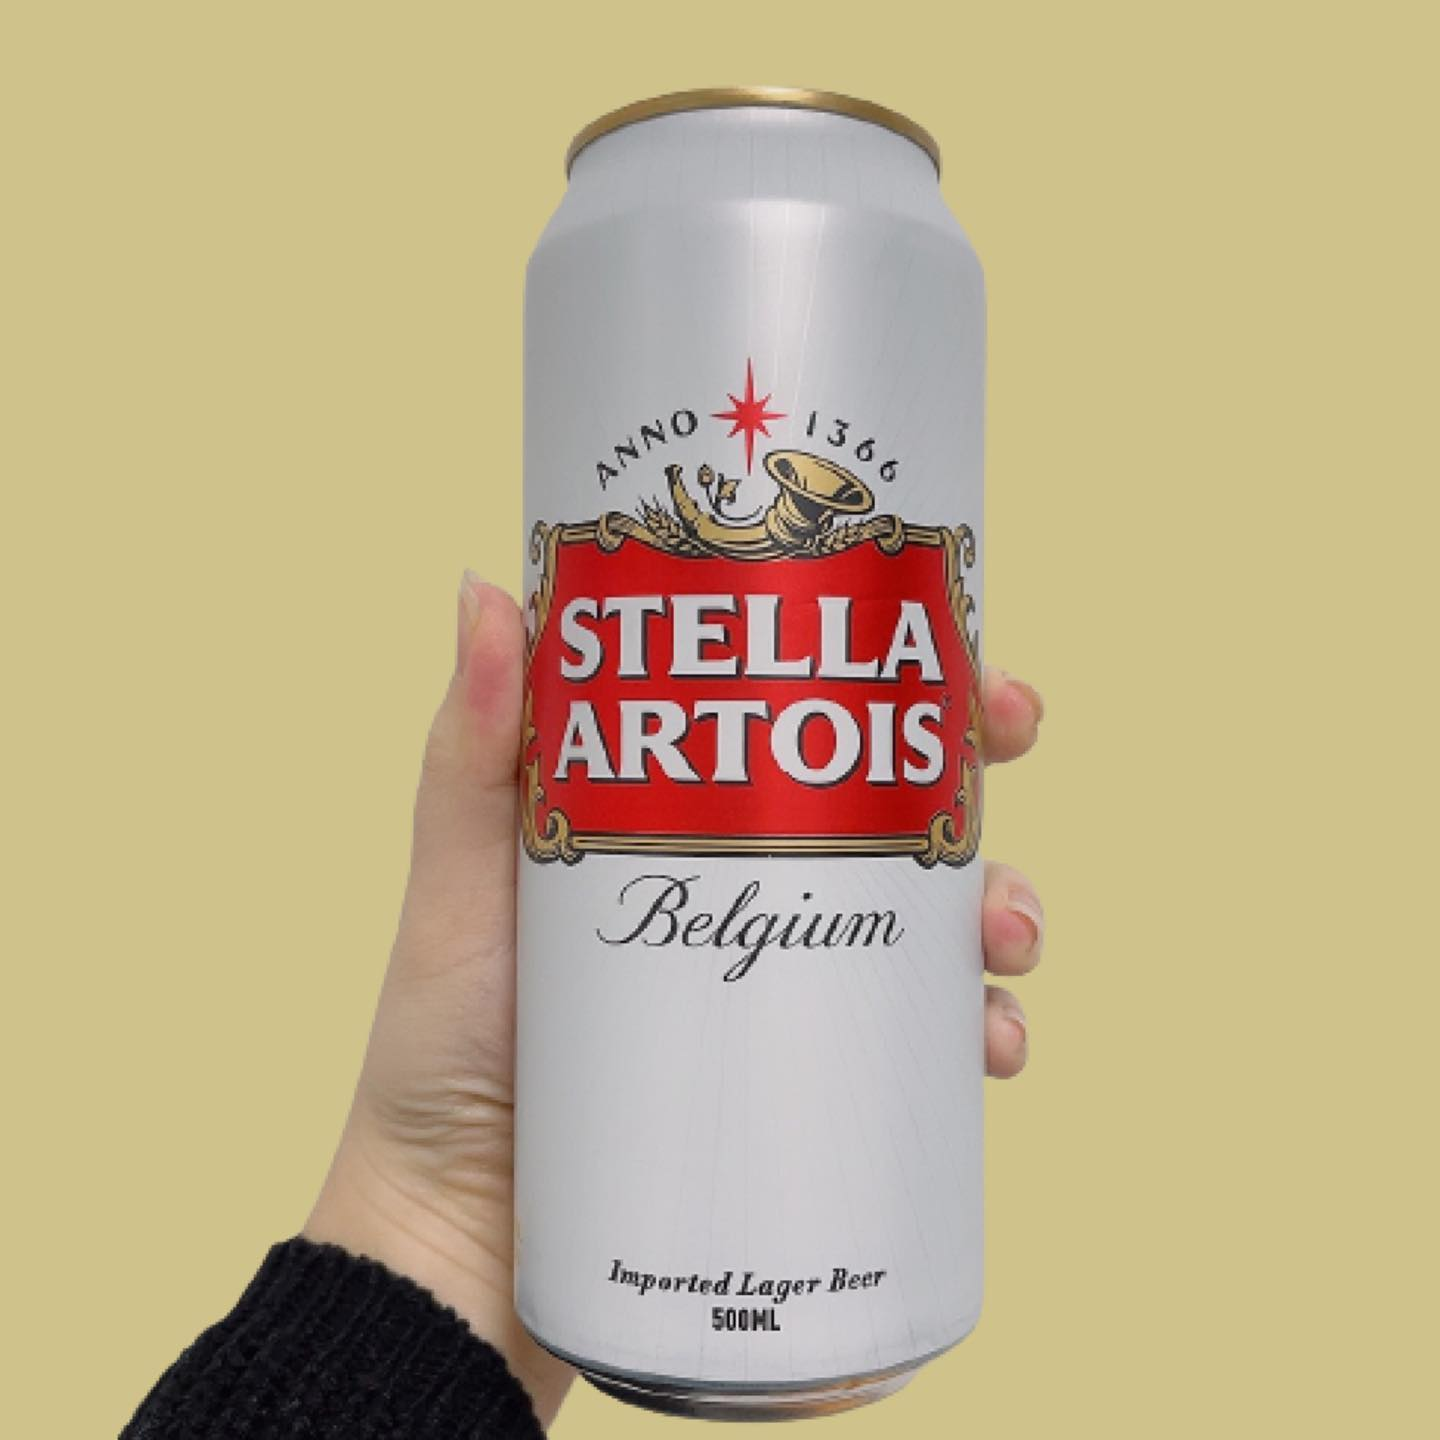alcohol: (504, 78, 996, 1431)
